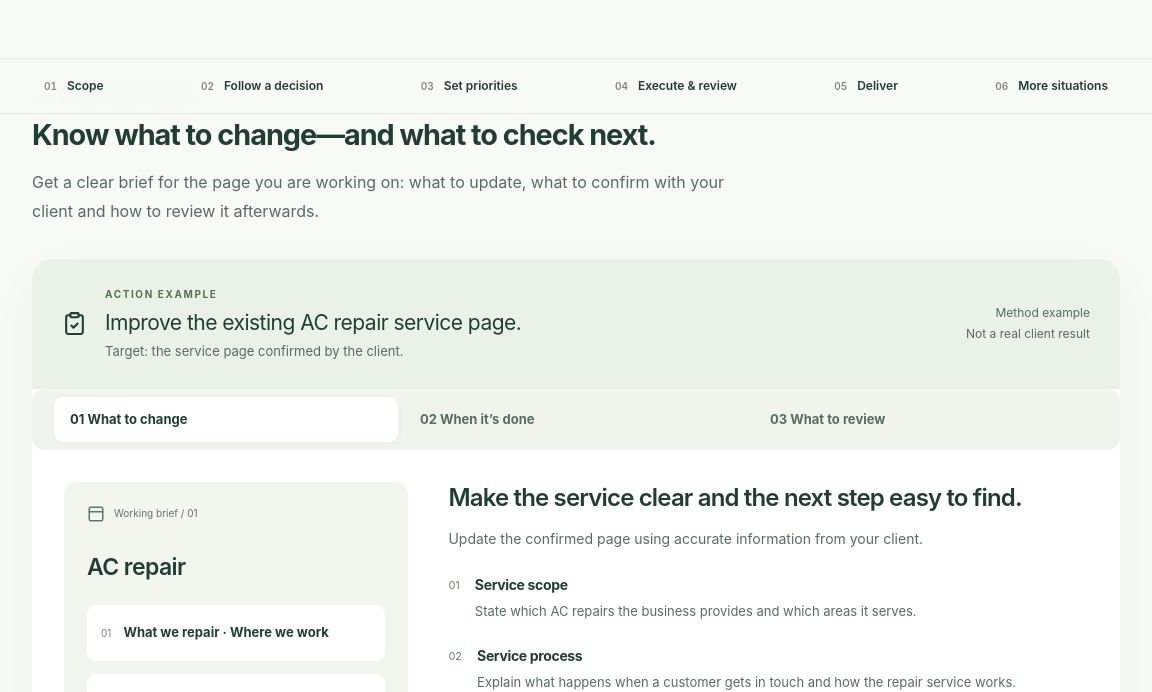
Test case: public method guide › shows execution, completion and review as distinct steps without pretending work is done
(page scrolled)
Click the tab "02 When it’s done" at (477, 419), box [404,397,748,442]
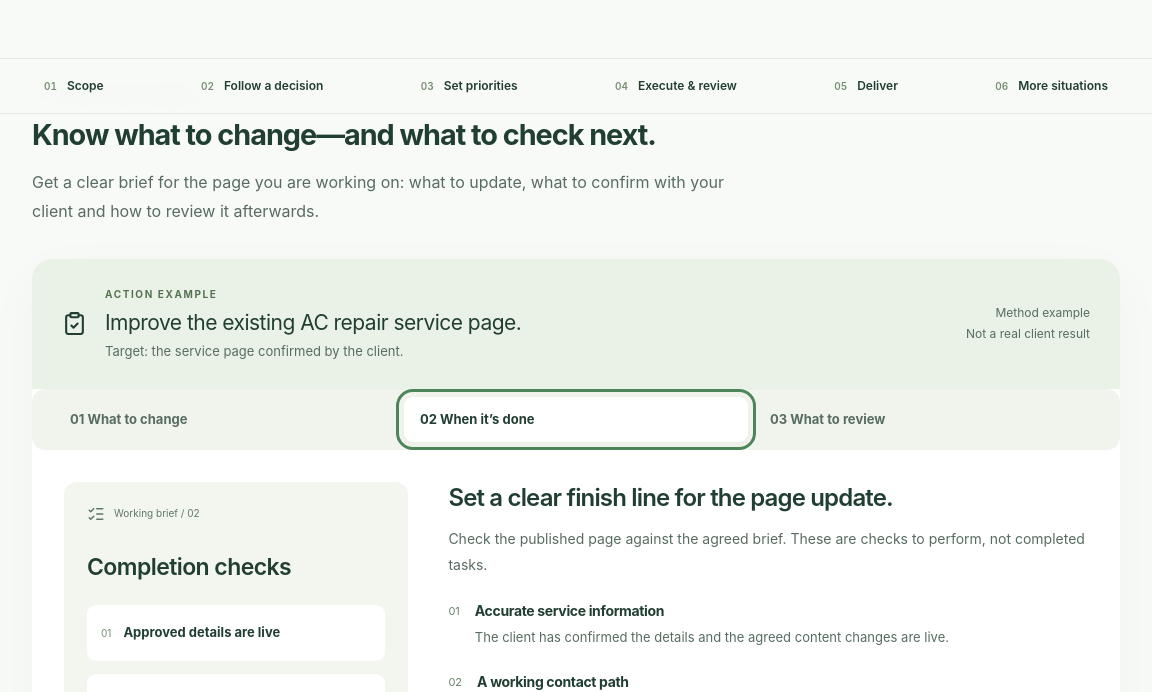
Expected: the text "These are checks to perform, not completed tasks" is shown, [448,530,1085,573]
Click the tab "03 What to review" at (828, 419), box [754,397,1098,442]
(page scrolled)
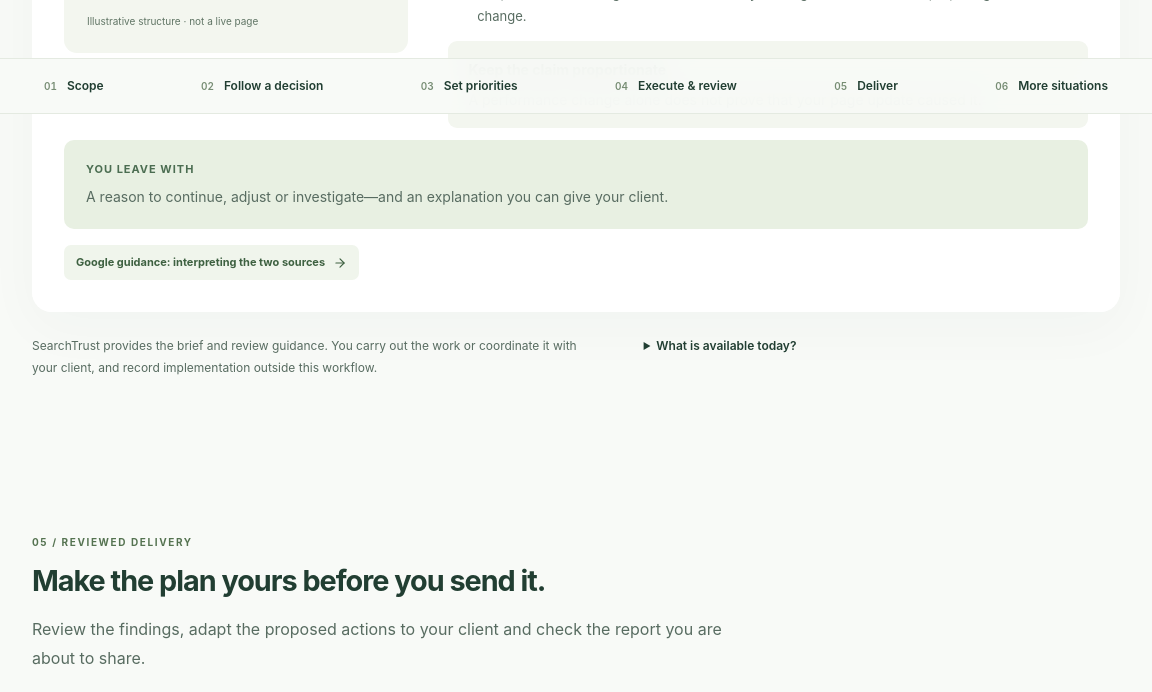
Expected: the text "A performance change alone does not prove" is shown, [468,91,982,108]
Click the heading "What is available today?" at (726, 346), box [656,338,796,353]
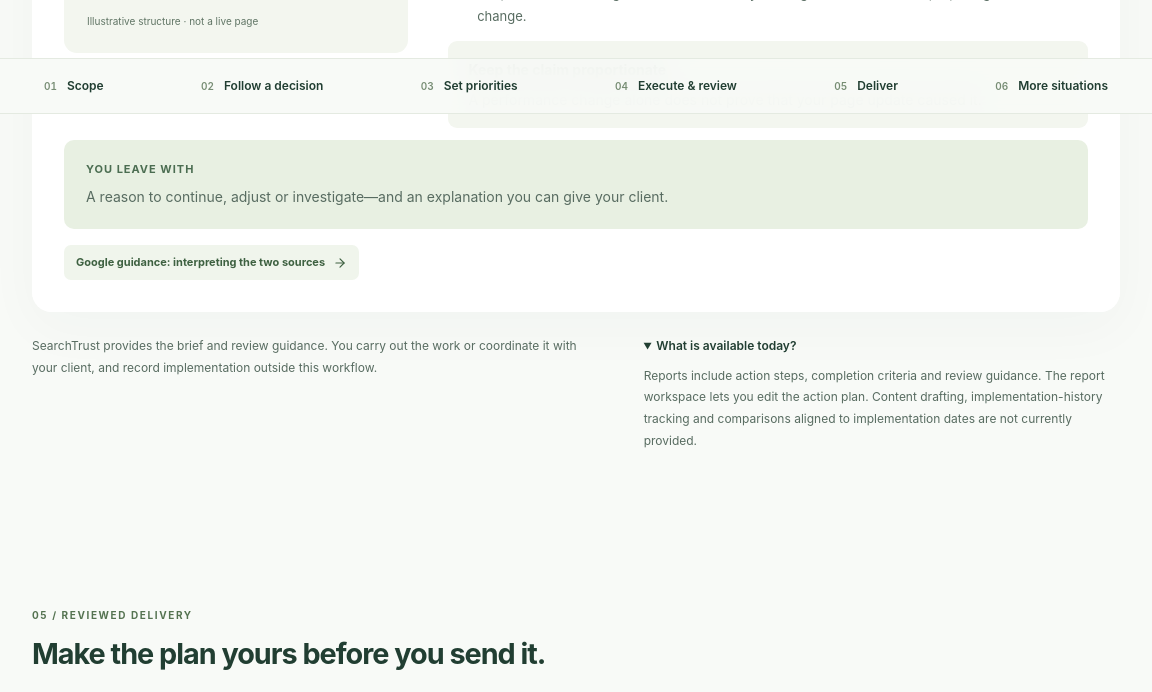
Expected: the text "Content drafting, implementation-history tracking" is shown, [644,368,1105,448]
